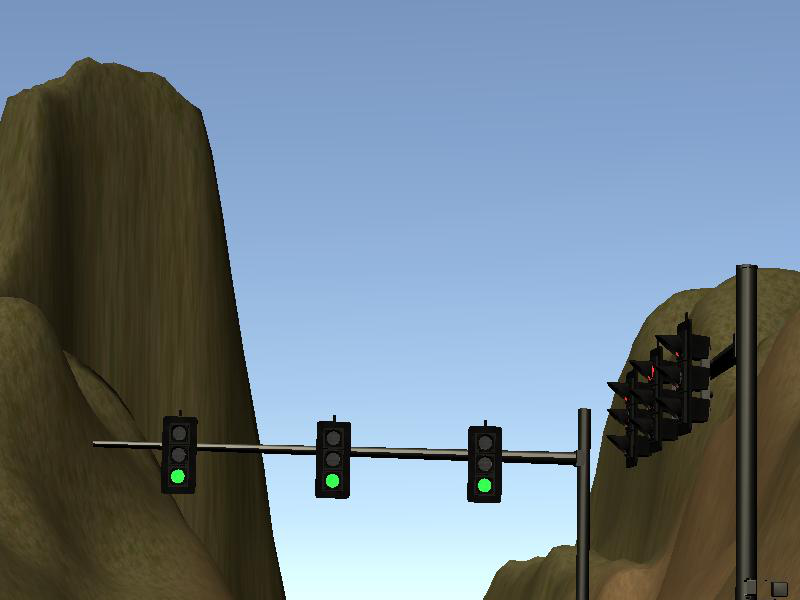green: (316, 420, 351, 499), (164, 416, 197, 493), (469, 427, 502, 504)
